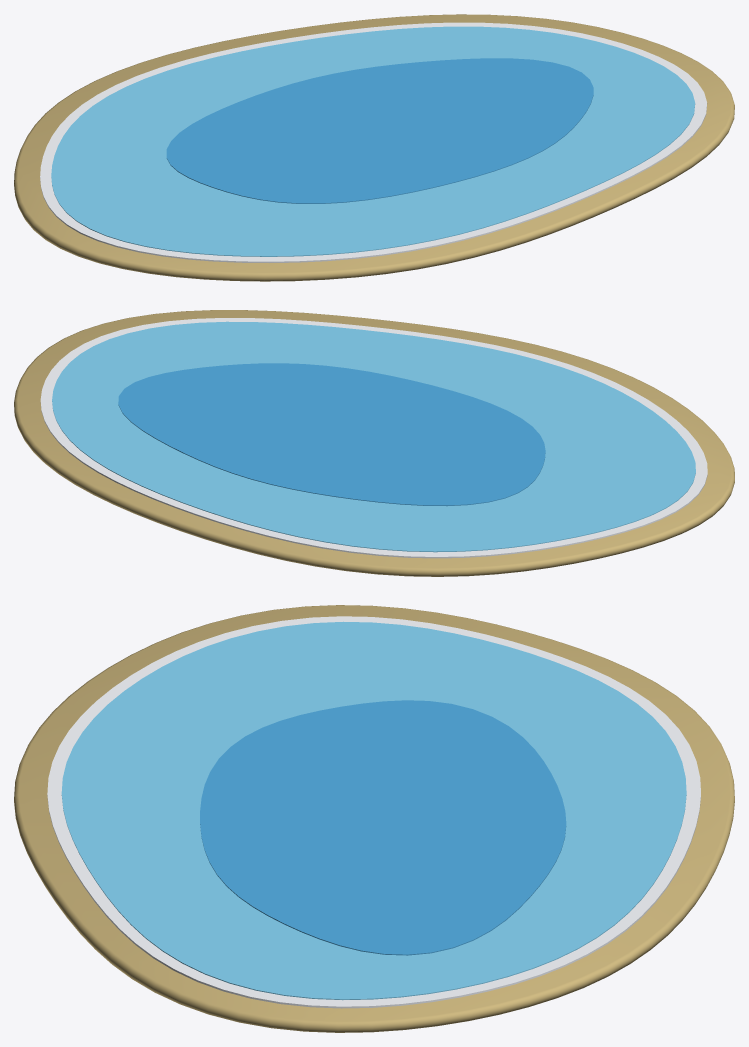
Rendered from laguinho.glb.
3 views of the same model, one above another, from view 1: azimuth 30°, elevation 25°; view 2: azimuth 150°, elevation 25°; view 3: azimuth 270°, elevation 25° (orthographic). The views are drawn at different scales.
Parts seen in each view (by area): view 1: laguinho; view 2: laguinho; view 3: laguinho.
Part boxes in pixels (x1=…): laguinho: x1=14, y1=14, x2=734, y2=281; laguinho: x1=14, y1=310, x2=734, y2=576; laguinho: x1=14, y1=605, x2=734, y2=1032.
Bounding box in the file's own units: 4.03 × 0.066 × 2.92.
